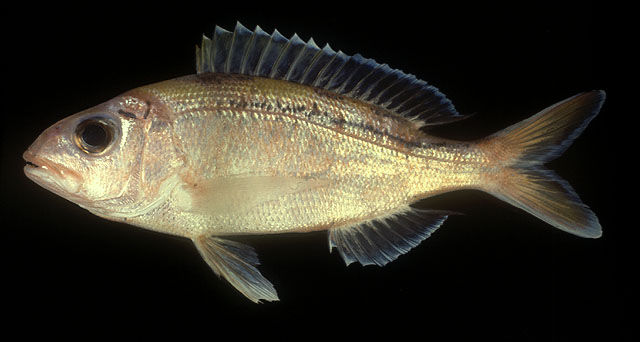fish: (22, 19, 607, 304)
